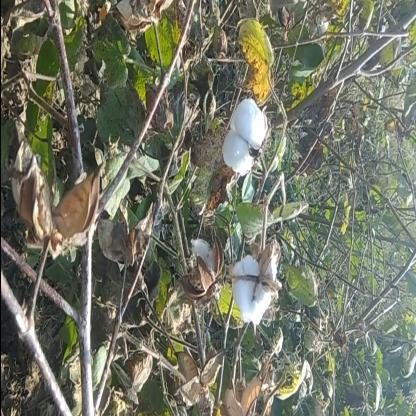cotton_ready: (215, 232, 283, 322), (212, 96, 270, 168)
